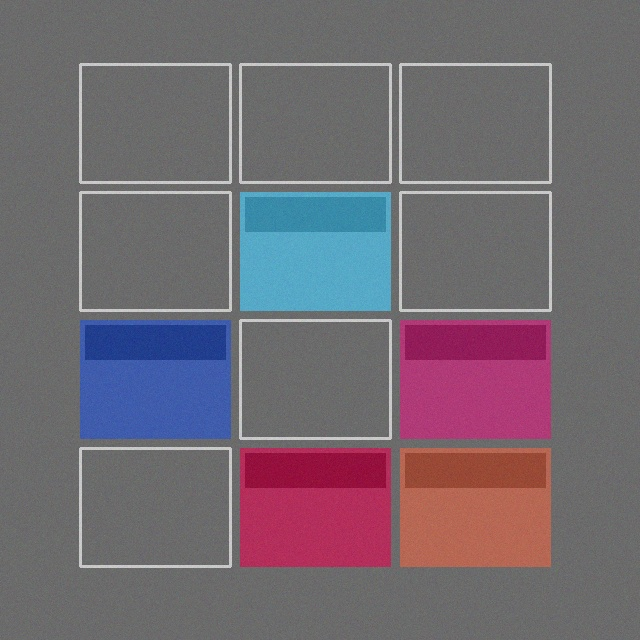space-empty: (80, 64, 230, 182), (240, 64, 390, 182), (400, 64, 550, 182), (80, 192, 230, 310), (400, 192, 550, 310), (240, 320, 390, 438), (80, 448, 230, 566)
space-occupied: (240, 192, 390, 310), (80, 320, 230, 438), (400, 320, 550, 438), (240, 448, 390, 566), (400, 448, 550, 566)
